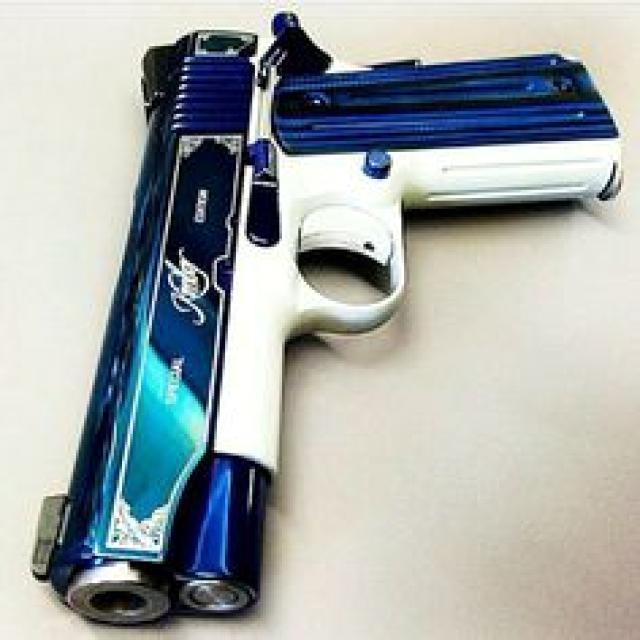semi automatic: (9, 0, 636, 631)
